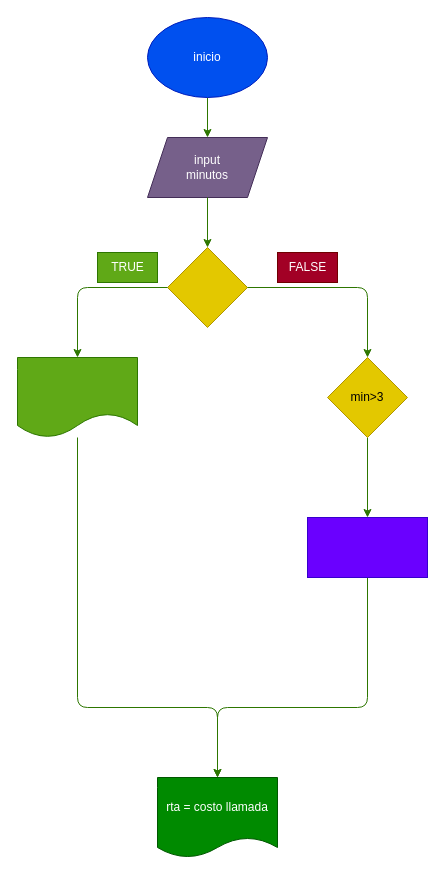
Image size: 445x875. Some labels were removed from this diagram. Each missing label, with the centre of its shape:
min-3 = rta rta*50+300: point 367,547
min<3: point 207,287
rta = la llamada tiene un costo de 300 pesos: point 77,397
